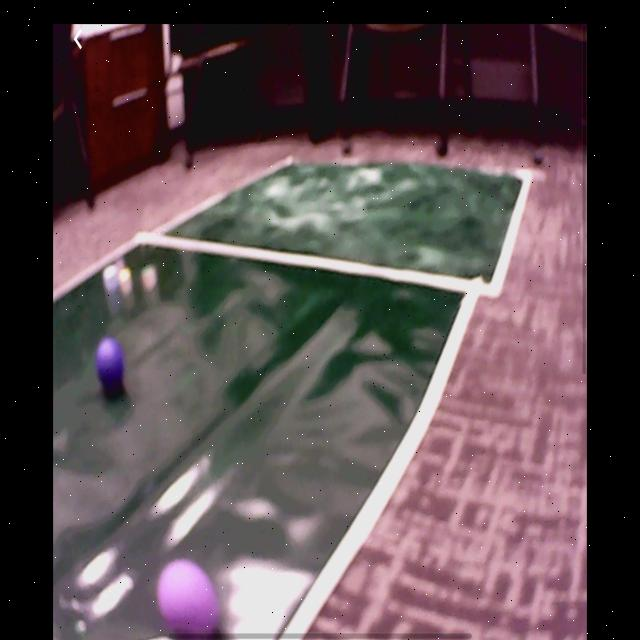ball: (156, 557, 221, 637), (96, 339, 126, 389)
